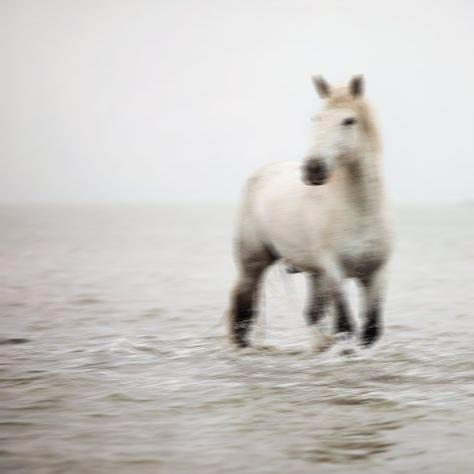horse: (219, 72, 395, 356)
